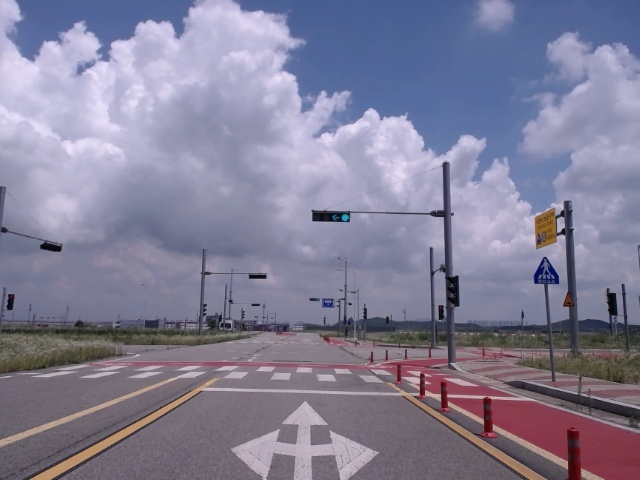all_green_4: (310, 210, 350, 223)
